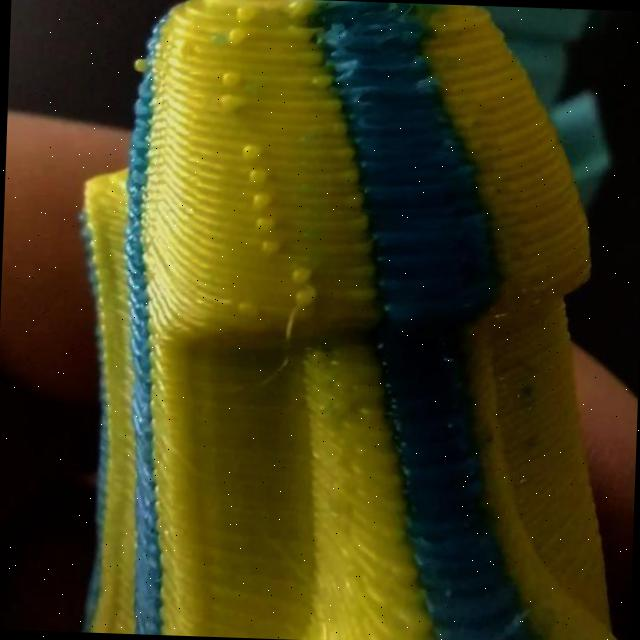blobs: (237, 182, 283, 212), (250, 230, 288, 261), (407, 76, 440, 105), (230, 0, 264, 28), (245, 210, 283, 235), (292, 277, 323, 306), (234, 138, 268, 164), (217, 68, 250, 94), (286, 260, 319, 286), (242, 166, 275, 188), (125, 54, 158, 76), (312, 68, 340, 93), (409, 51, 438, 72), (225, 26, 250, 48)
